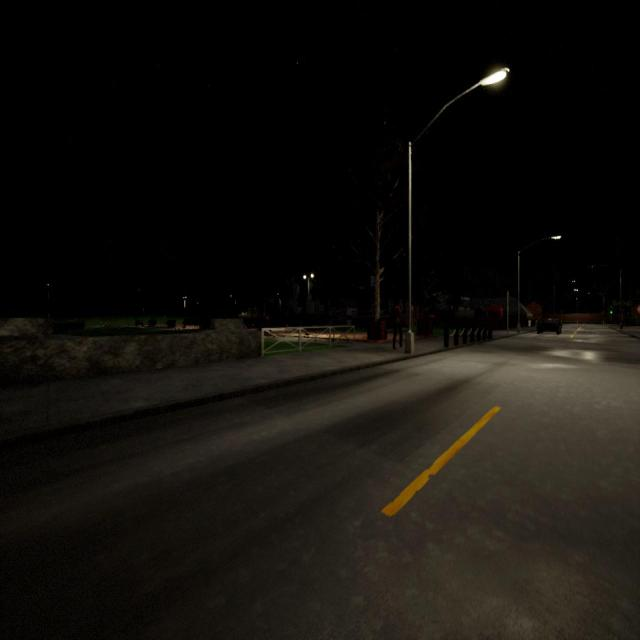Pedestrian: (390, 299, 404, 350)
Vehicle: (537, 315, 562, 335)
traffic_light: (610, 308, 612, 314)
